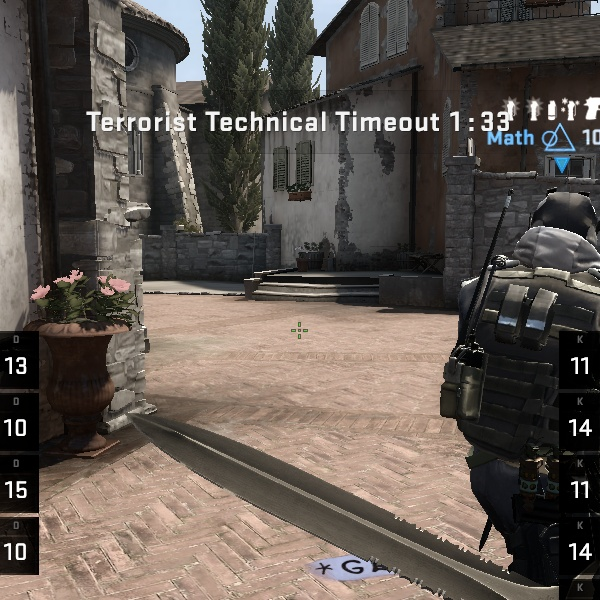ct_body: (408, 177, 593, 600)
ct_head: (516, 178, 598, 290)
